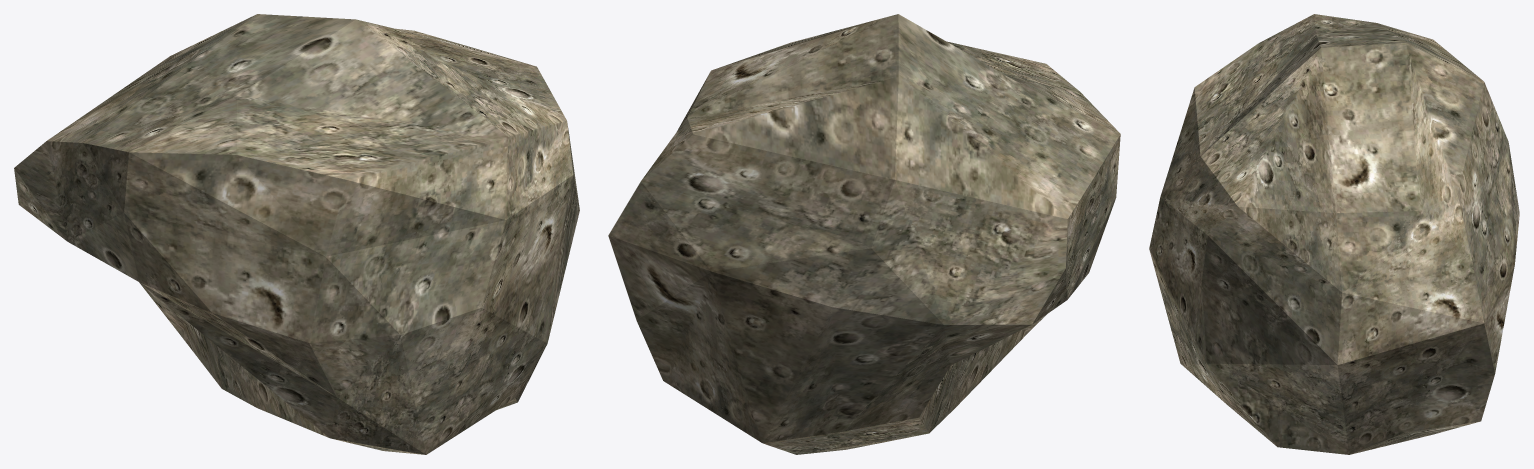
The model's file is asteroid_all_medium_01_l1.fbx.
3 renders of one model, left to right at view 1: azimuth 30°, elevation 25°; view 2: azimuth 150°, elevation 25°; view 3: azimuth 270°, elevation 25°, orthographic. The views are drawn at different scales.
Visible parts, largest first — view 1: mesh_node; view 2: mesh_node; view 3: mesh_node.
Part boxes in pixels (<box>): mesh_node: <box>14,14,579,454</box>; mesh_node: <box>608,14,1120,454</box>; mesh_node: <box>1149,14,1519,454</box>.
Size of the model in its own units: 63.45 by 54.3 by 48.02.
